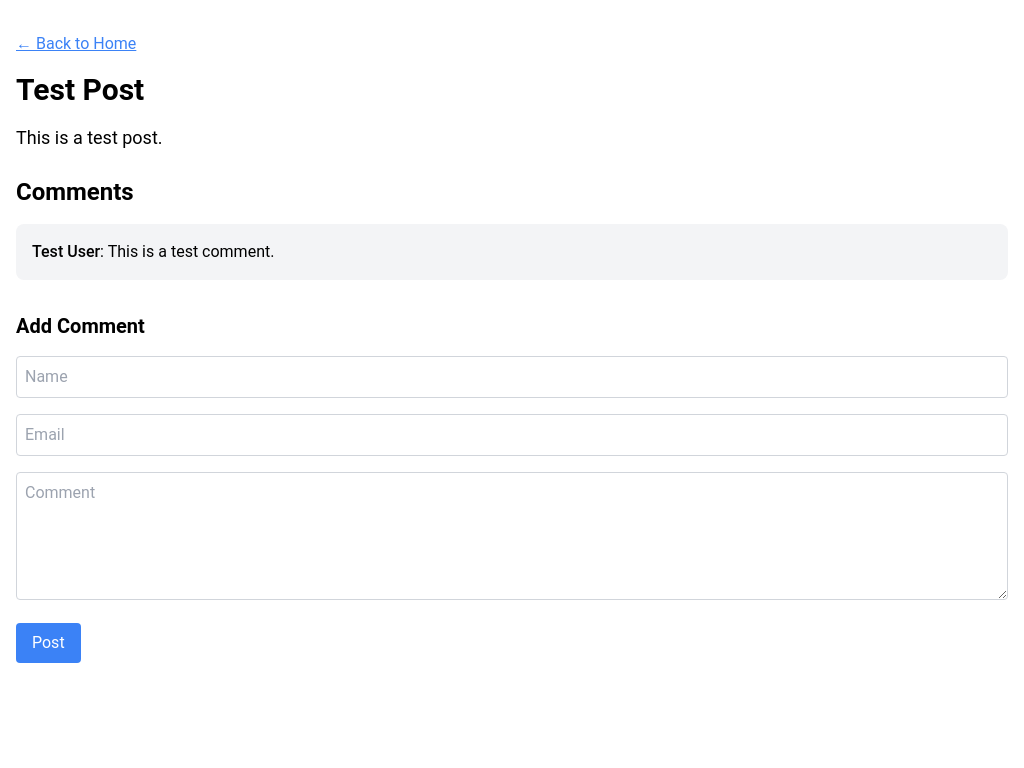
Test: PostDetails › handles adding a new comment
Expected: the heading "Test Post" is shown, 16,72 -> 144,107
In the field with placeholder "Name": (512, 377) 16,356 -> 1008,398, type "New User"
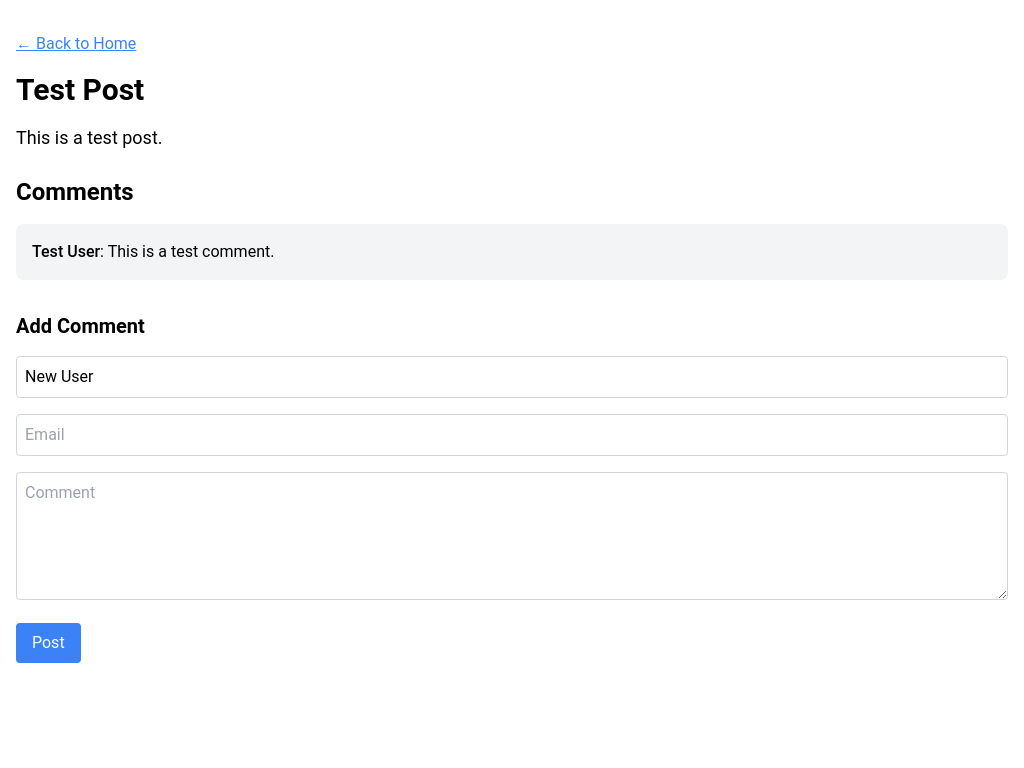
In the field with placeholder "Email": (512, 435) 16,414 -> 1008,456, type "newuser@example.com"
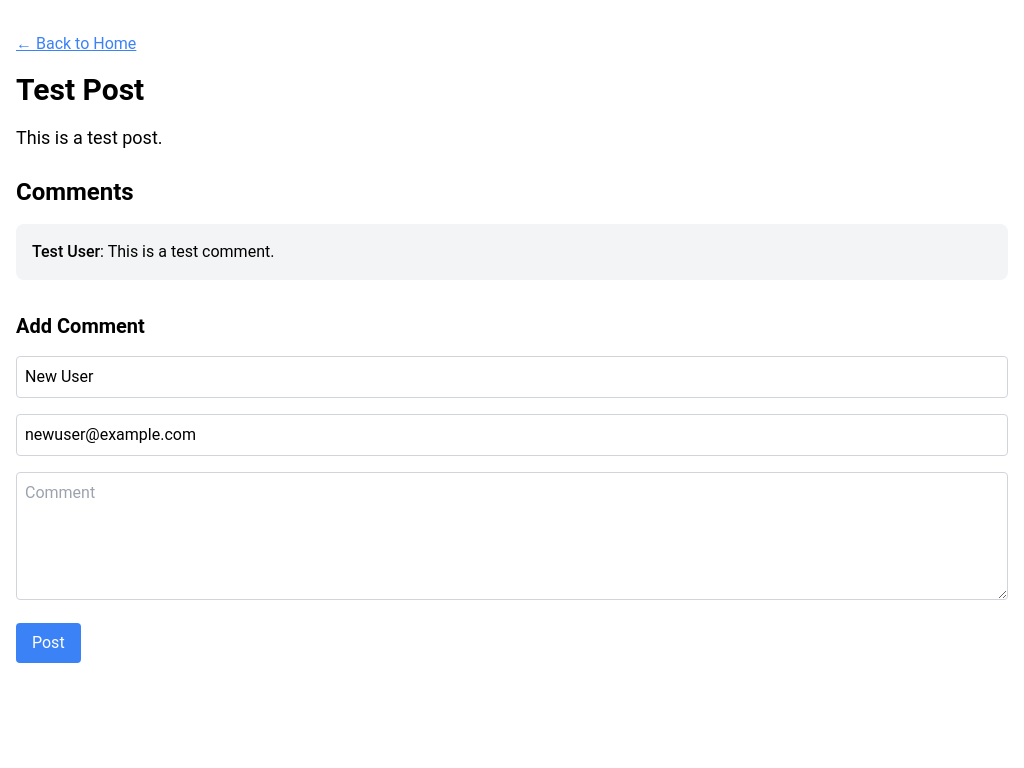
In the text box with placeholder "Comment": (512, 536) 16,472 -> 1008,600, type "This is a new comment."
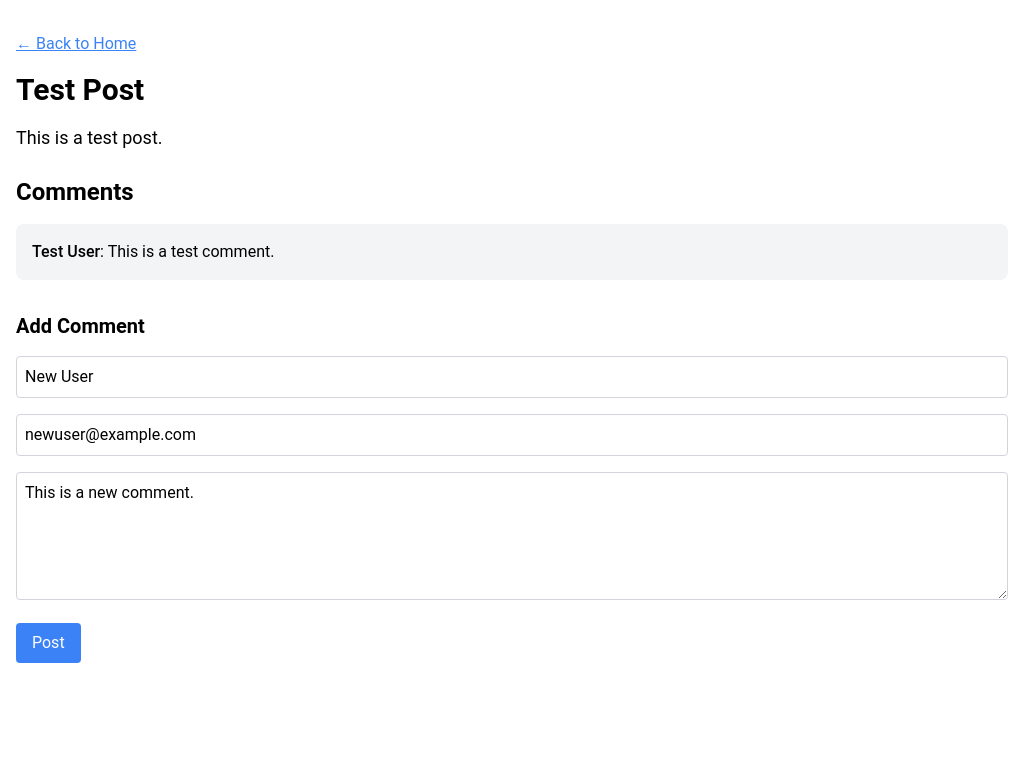
Click the button "Post": (48, 643) 16,623 -> 81,663
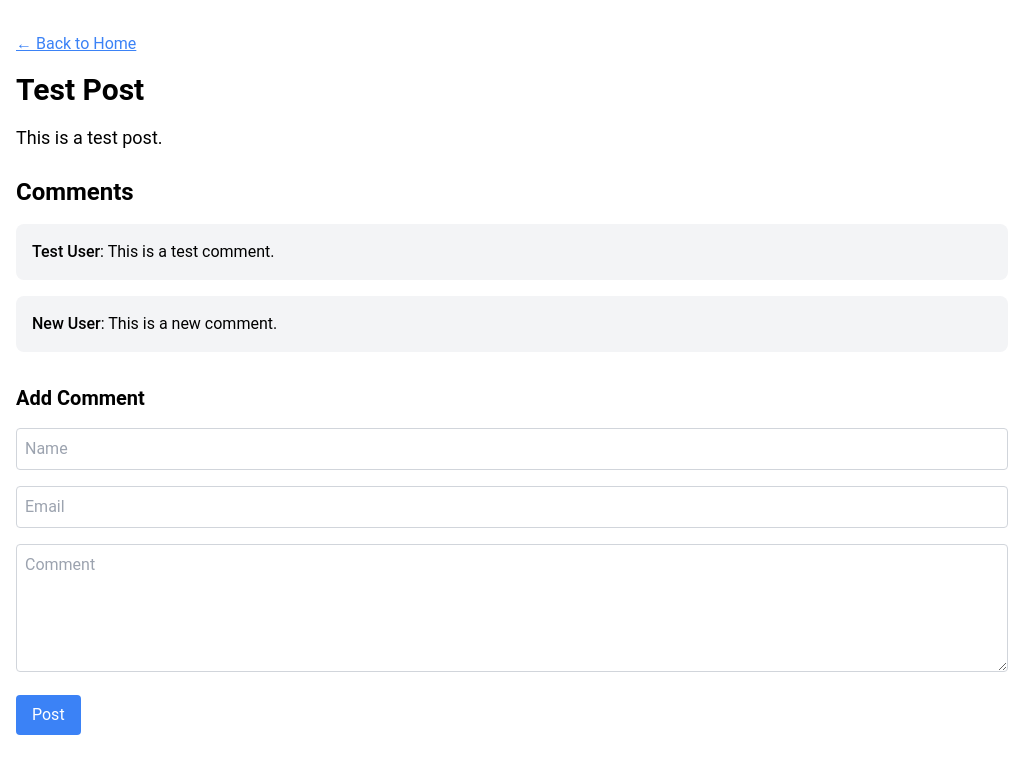
Now the text "New User" is shown, box 32,314 -> 101,333
